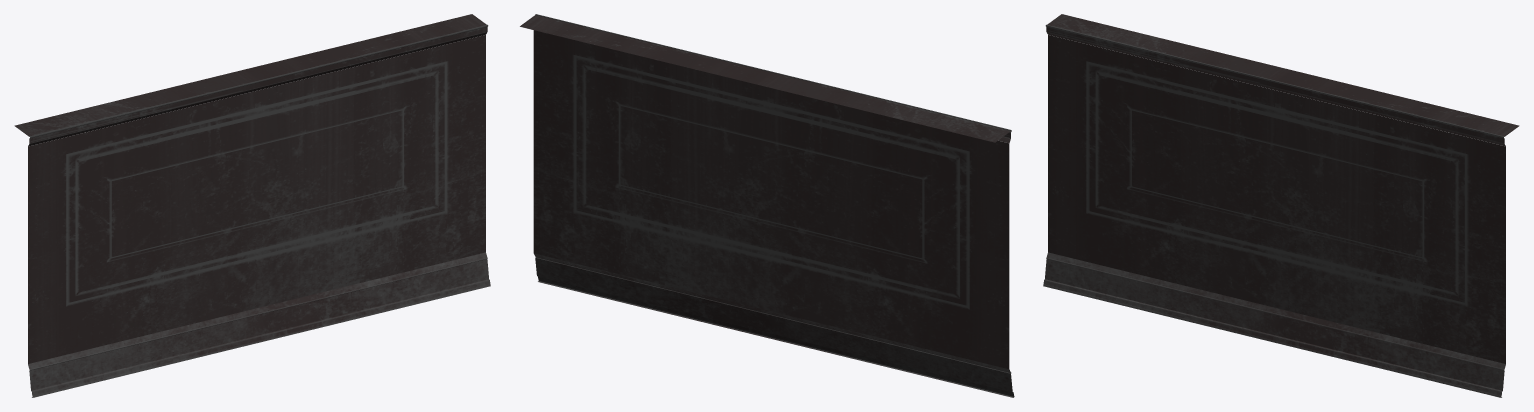
The model's file is sm_paneling_short_02.FBX.
The picture shows the model from 3 angles, left to right: view 1: azimuth 30°, elevation 25°; view 2: azimuth 150°, elevation 25°; view 3: azimuth 330°, elevation 25°; orthographic projection. The views are drawn at different scales.
Visible parts, largest first — view 1: paneling_uvs; view 2: paneling_uvs; view 3: paneling_uvs.
Part boxes in pixels (x1=…): paneling_uvs: x1=14, y1=14, x2=490, y2=397; paneling_uvs: x1=520, y1=14, x2=1014, y2=397; paneling_uvs: x1=1043, y1=14, x2=1519, y2=397.
Size of the model in its own units: 500 by 270 by 35.3.
1 material, 1 textured.
